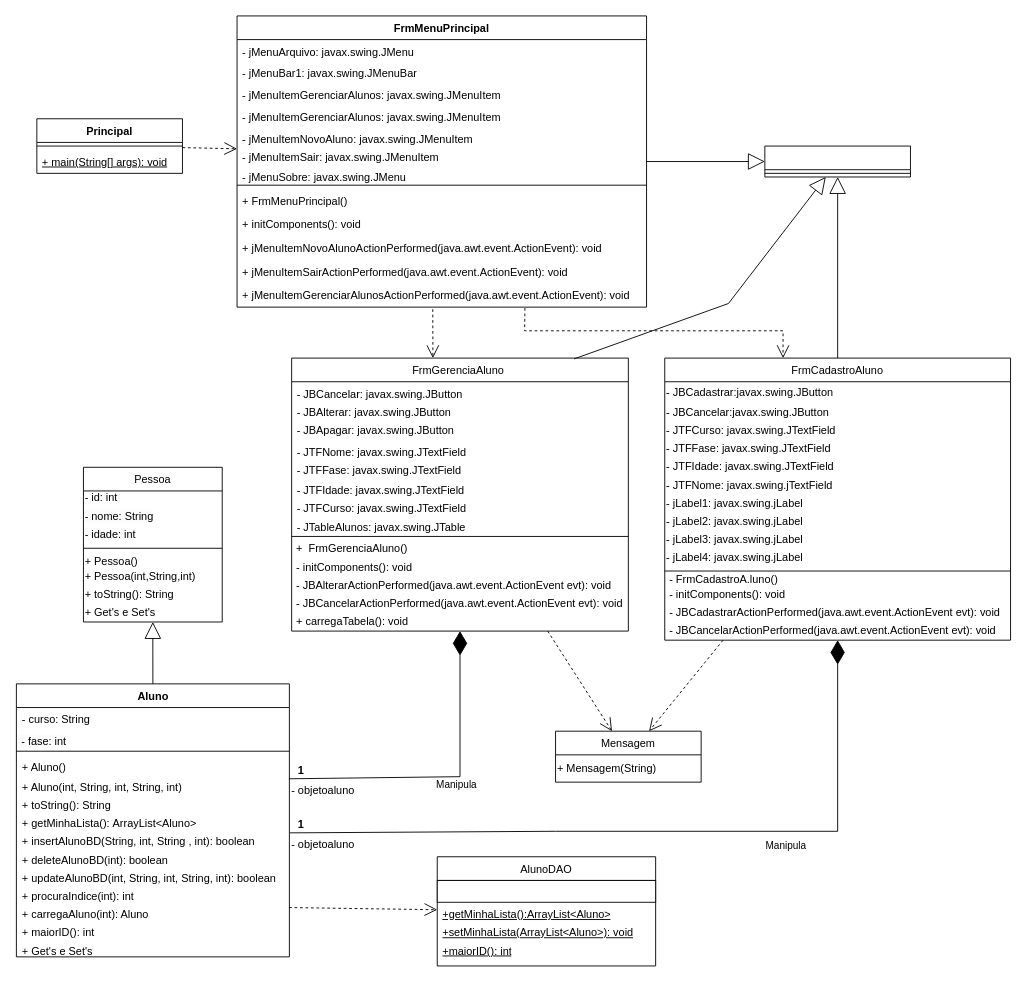
Some shapes in this 1026 by 982 pixel diagram are drawn without their labels. The shapes that lost their labels are listed below. From the top down, each one's centre as x and y in pixels, then its label:
At (x=837, y=161): "javax.swing.JFrame".
At (x=546, y=891): "-alunos: ArrayList<Aluno>".
